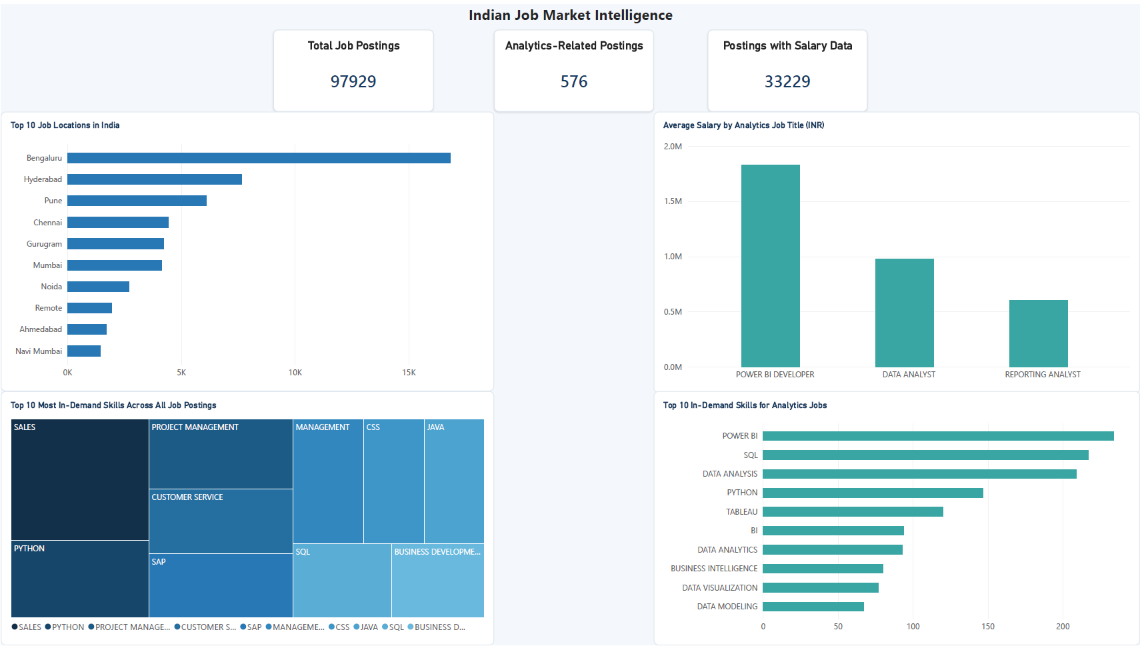

What the dashboard file says about the page in this screenshot:
{"tool":"powerbi","page":{"name":"Page 1","canvas":[1920,1080],"ordinal":0},"visuals":[{"type":"card","title":"Total Job Postings","fields":{"Values":["CountNonNull(Job Market.RECORD_ID)"]},"box":[459.2,42.5,269.3,138.9],"z":0},{"type":"card","title":"Analytics-Related Postings","fields":{"Values":["CountNonNull(Job Market.RECORD_ID)"]},"box":[830.6,42.5,269.3,138.9],"z":1000},{"type":"card","title":"Postings with Salary Data","fields":{"Values":["CountNonNull(Job Market.SALARY_MIDPOINT)"]},"box":[1190.6,42.5,269,138.9],"z":2000},{"type":"clusteredBarChart","title":"Top 10 Job Locations in India","fields":{"Category":["Job Market.LOCATION"],"Y":["CountNonNull(Job Market.RECORD_ID)"]},"box":[0,181.4,830.6,470.6],"z":3000},{"type":"clusteredColumnChart","title":"Average Salary by Analytics Job Title (INR)","fields":{"Category":["Job Market.NORMALIZED_JOB_TITLE"],"Y":["Avg(Job Market.SALARY_MIDPOINT)"]},"box":[1099.9,181.4,819.2,473.4],"z":4000},{"type":"clusteredBarChart","title":"Top 10 In-Demand Skills for Analytics Jobs","fields":{"Category":["Job Skills.SKILL"],"Y":["CountNonNull(Job Skills.SKILL)"]},"box":[1099.9,652,819.2,428],"z":5000},{"type":"textbox","box":[728.5,0,462.1,70.9],"z":6000},{"type":"treemap","title":"Top 10 Most In-Demand Skills Across All Job Postings","fields":{"Group":["Job Skills.SKILL"],"Values":["CountNonNull(Job Skills.SKILL)"]},"box":[0,652,830.6,428],"z":7000}]}

Visuals, with their boxes in screenshot pixels (x1, y1, x2, y2), scaled from the page's 1920x1080 canvas onto the 1140x648 screenshot:
"Total Job Postings" card: 273/26/433/109
"Analytics-Related Postings" card: 493/26/653/109
"Postings with Salary Data" card: 707/26/867/109
"Top 10 Job Locations in India" clusteredBarChart: 0/109/493/391
"Average Salary by Analytics Job Title (INR)" clusteredColumnChart: 653/109/1139/393
"Top 10 In-Demand Skills for Analytics Jobs" clusteredBarChart: 653/391/1139/647
textbox: 433/0/707/43
"Top 10 Most In-Demand Skills Across All Job Postings" treemap: 0/391/493/647
